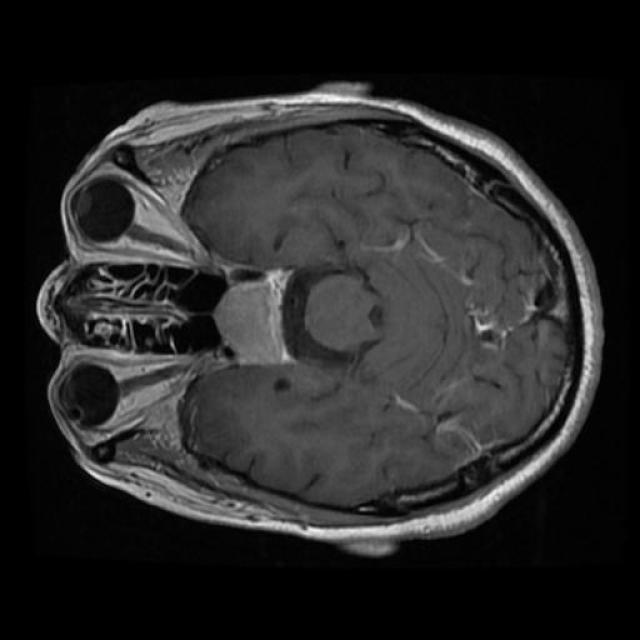Pituitary: (213, 270, 293, 364)
